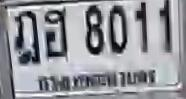0: (107, 3, 127, 52)
1: (134, 1, 147, 52), (158, 1, 170, 52)
8: (84, 4, 103, 54)
A14: (13, 10, 39, 64)
A44: (43, 7, 67, 58)
